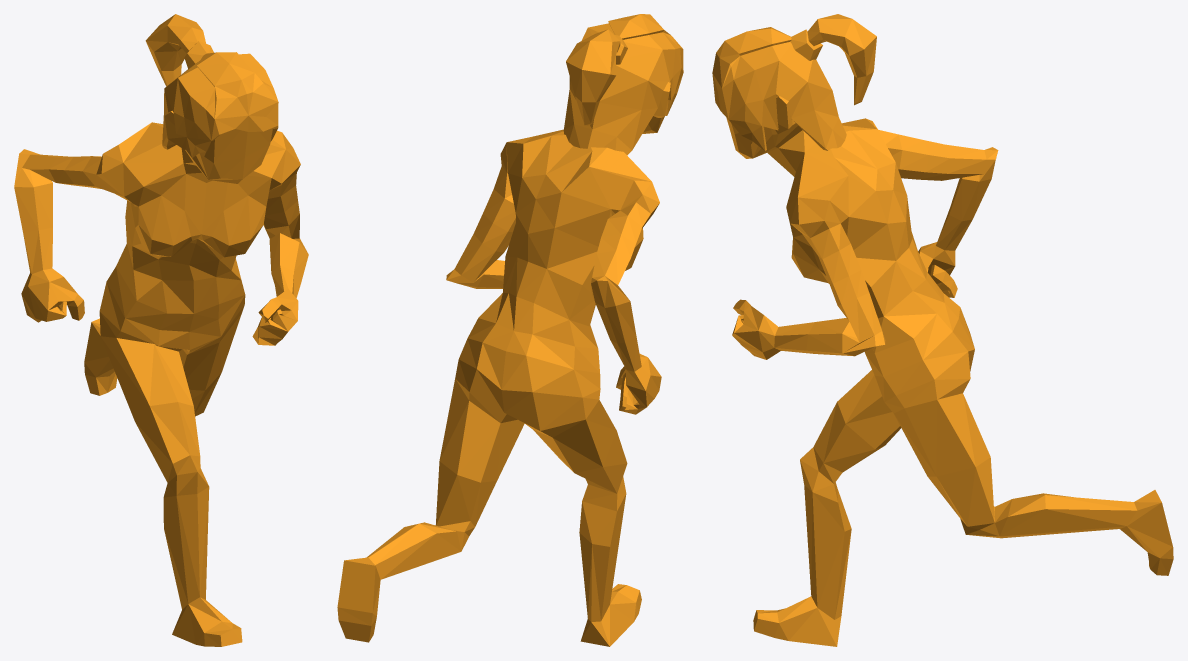
The model's file is SM_Pawn_Run_Female_01.fbx.
3 renders of one model, left to right at view 1: azimuth 30°, elevation 25°; view 2: azimuth 150°, elevation 25°; view 3: azimuth 270°, elevation 25°, orthographic.
Visible parts, largest first — view 1: SM_Pawn_Run_Female_01; view 2: SM_Pawn_Run_Female_01; view 3: SM_Pawn_Run_Female_01.
Boxes of the visible parts, left/top/right/bottom form: SM_Pawn_Run_Female_01: left=14, top=14, right=308, bottom=646; SM_Pawn_Run_Female_01: left=337, top=14, right=683, bottom=646; SM_Pawn_Run_Female_01: left=712, top=14, right=1173, bottom=646.
Size of the model in its own units: 68.05 by 168 by 113.
